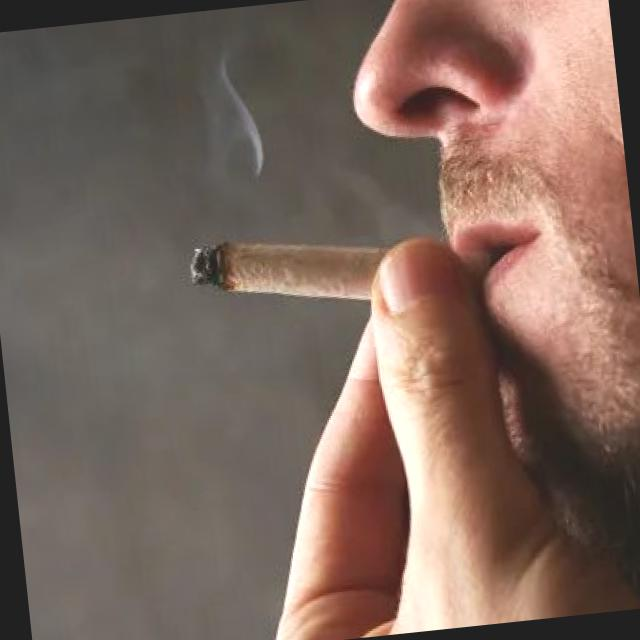smoke: (182, 210, 496, 336)
